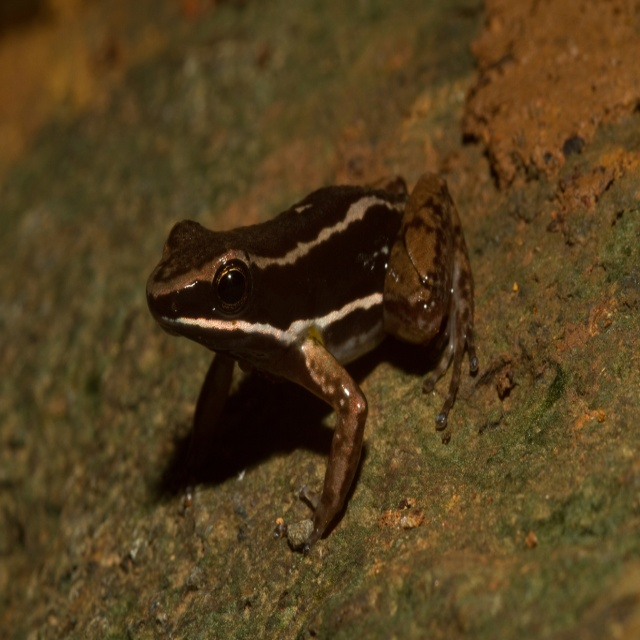Frog: (146, 171, 484, 555)
